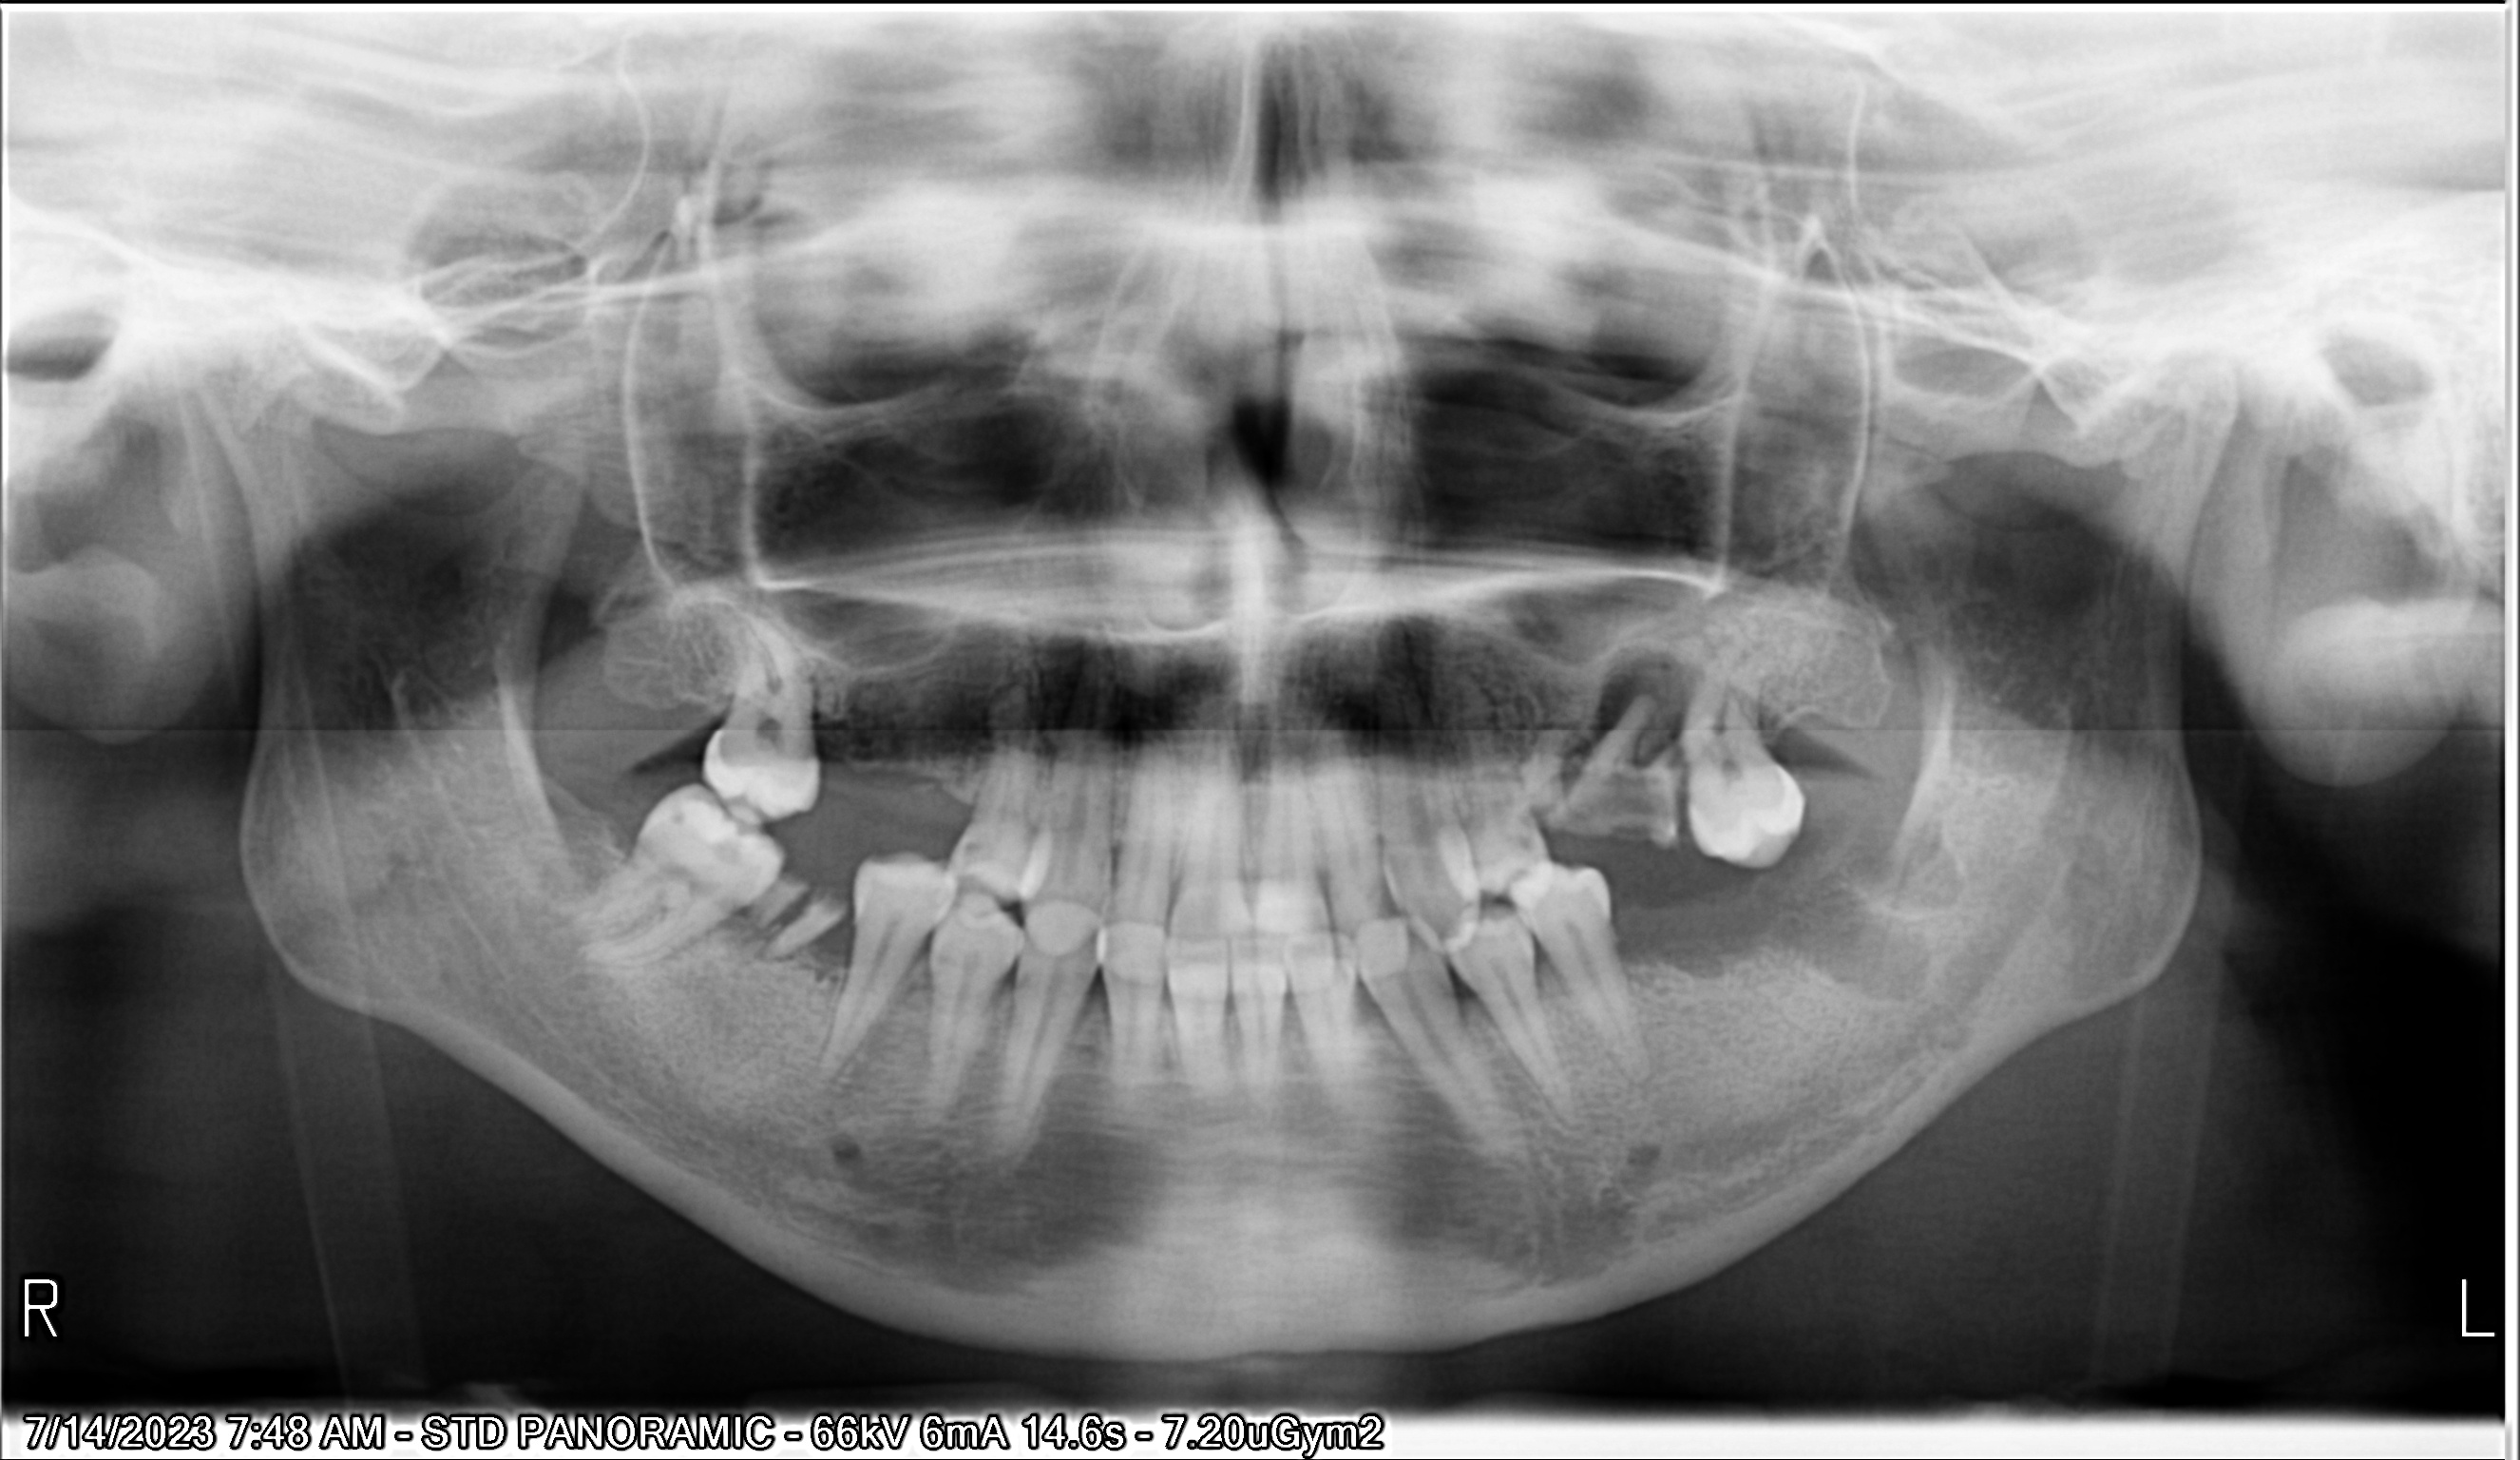API: (1573, 603, 1725, 746)
CAR: (1565, 768, 1688, 864), (698, 813, 750, 876)
ROT: (738, 885, 867, 987), (719, 864, 834, 944)
